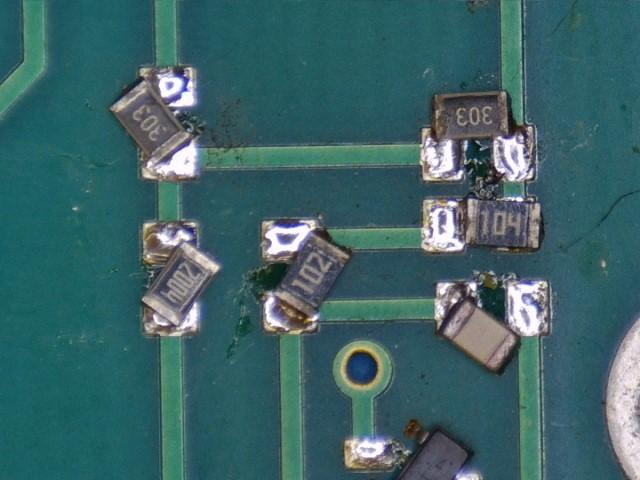Incorrect_installation: (436, 280, 550, 377), (421, 91, 537, 185), (261, 220, 354, 335), (109, 67, 200, 182), (140, 222, 224, 337), (344, 422, 482, 480), (423, 197, 543, 254)
